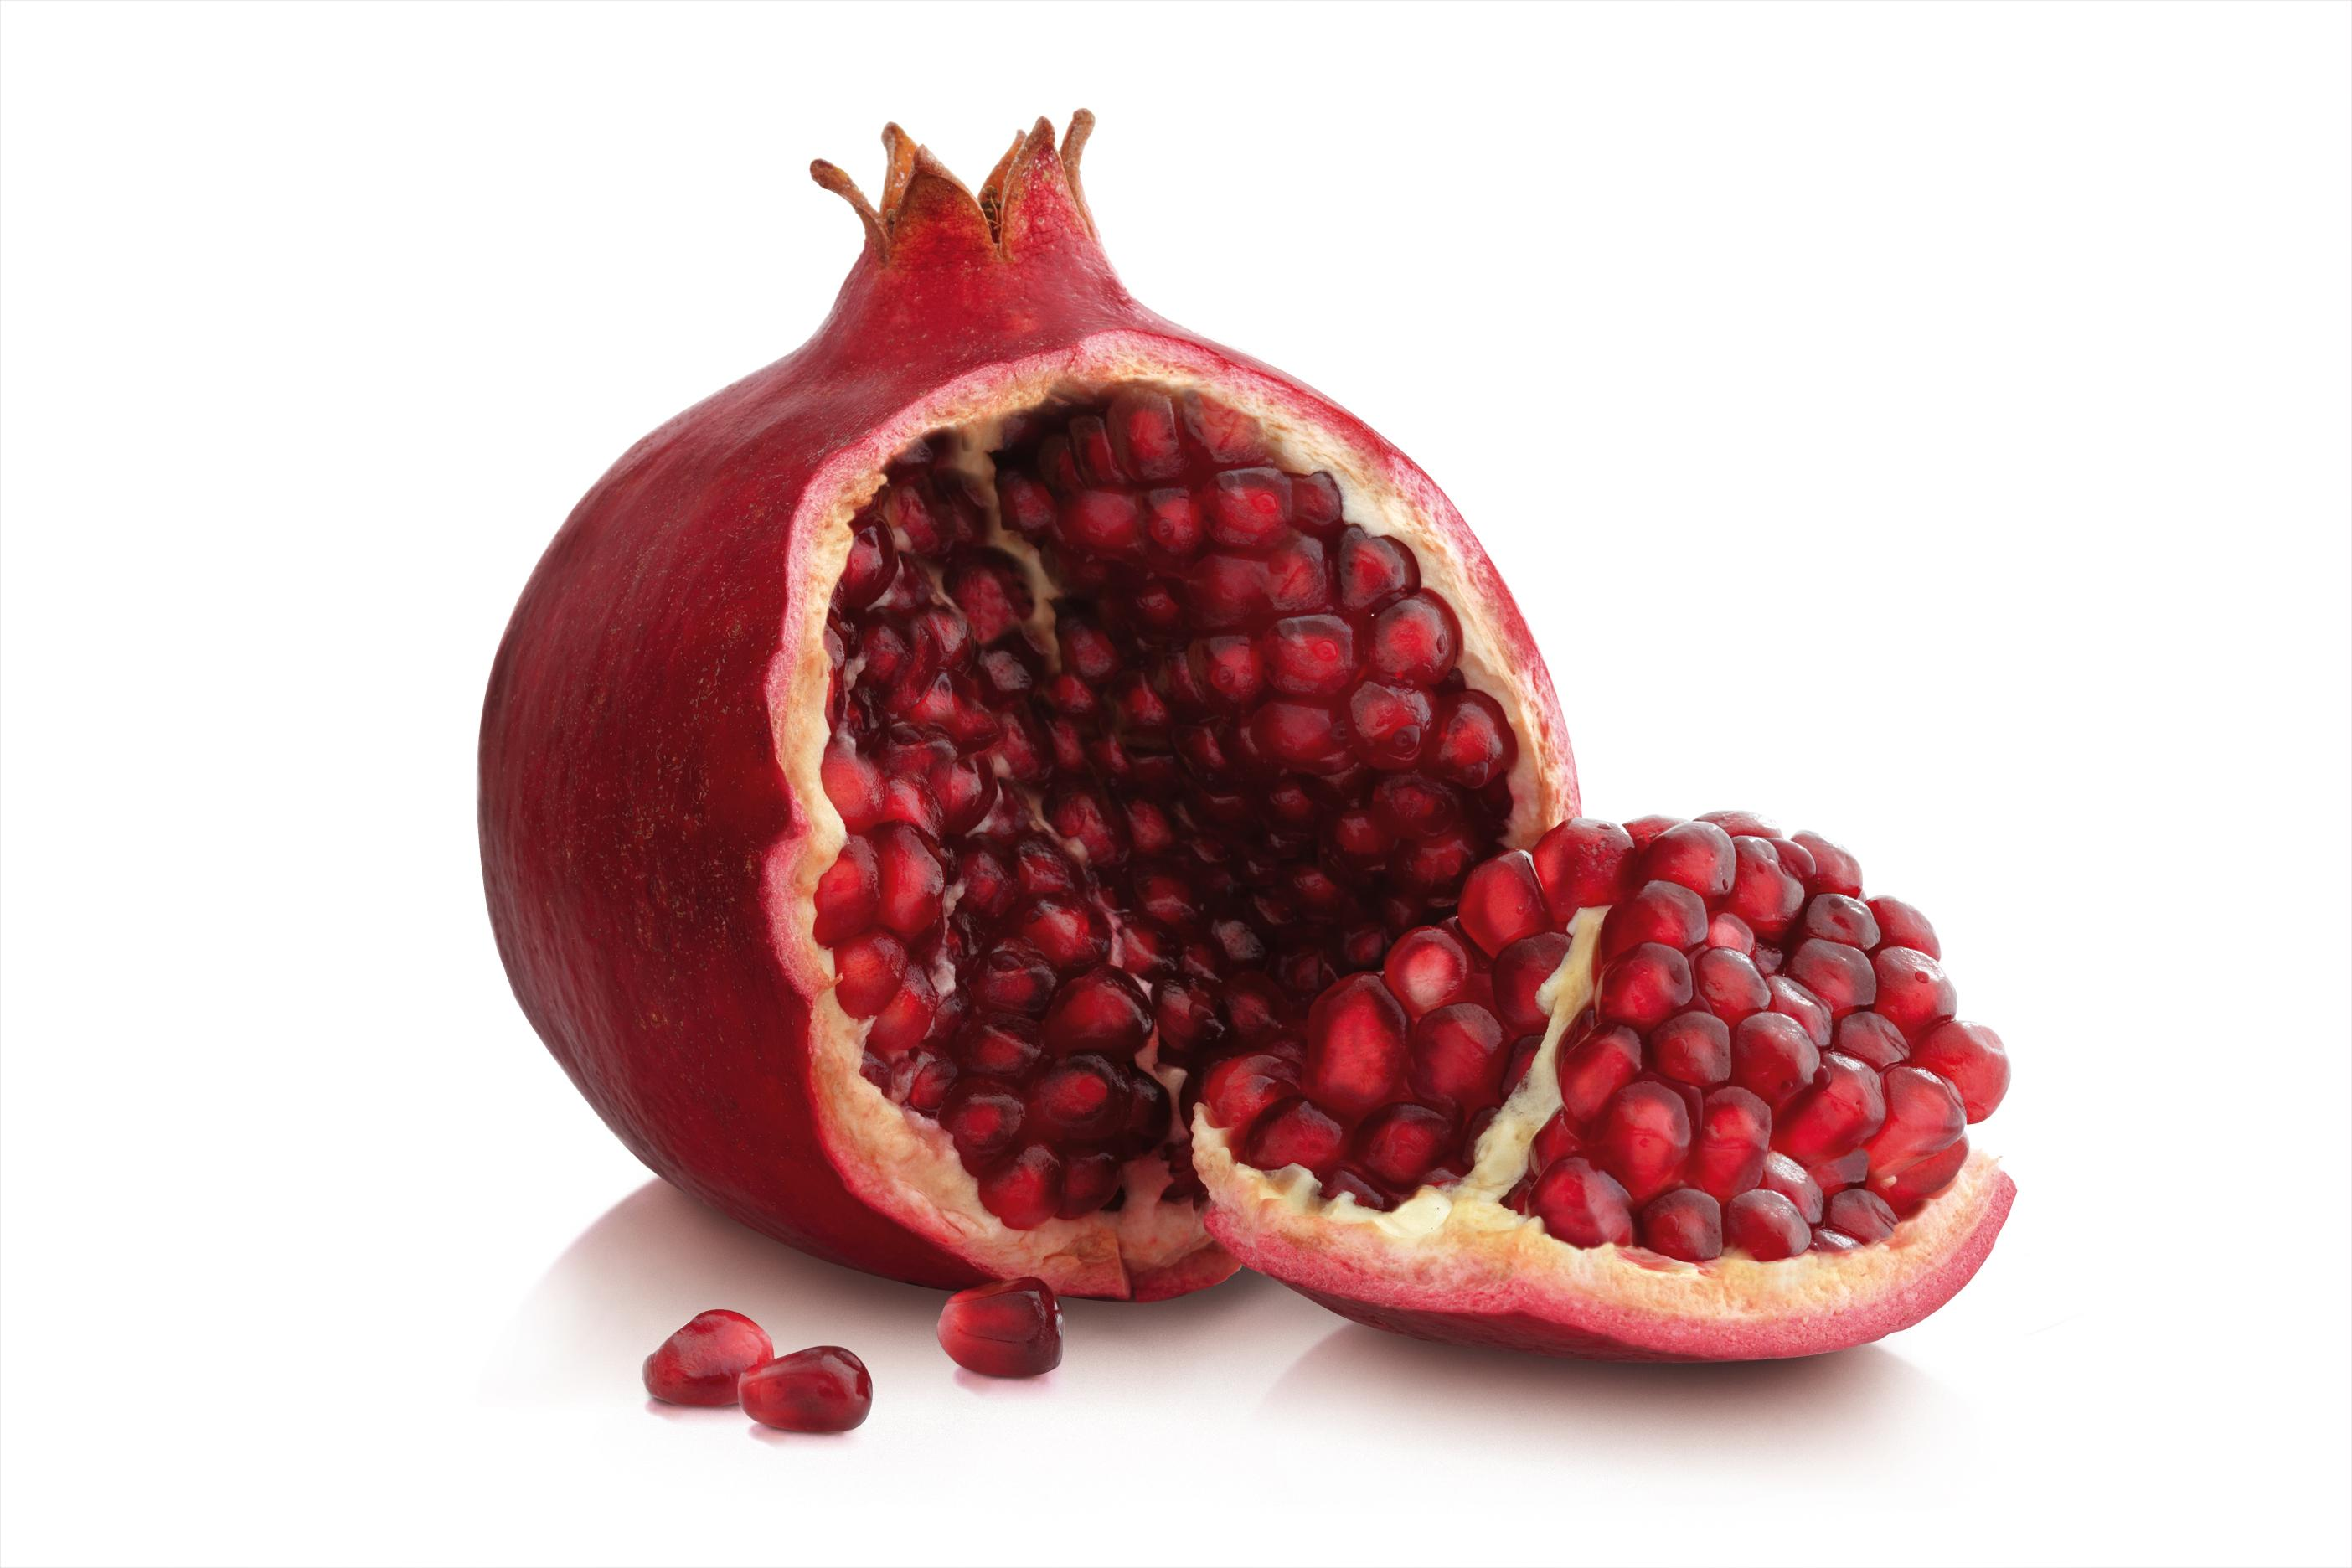peas: (738, 1344, 872, 1433)
pomegranate: (476, 107, 1584, 1304), (1188, 809, 2018, 1363), (642, 1307, 774, 1407)
tomato: (936, 1274, 1062, 1379)
